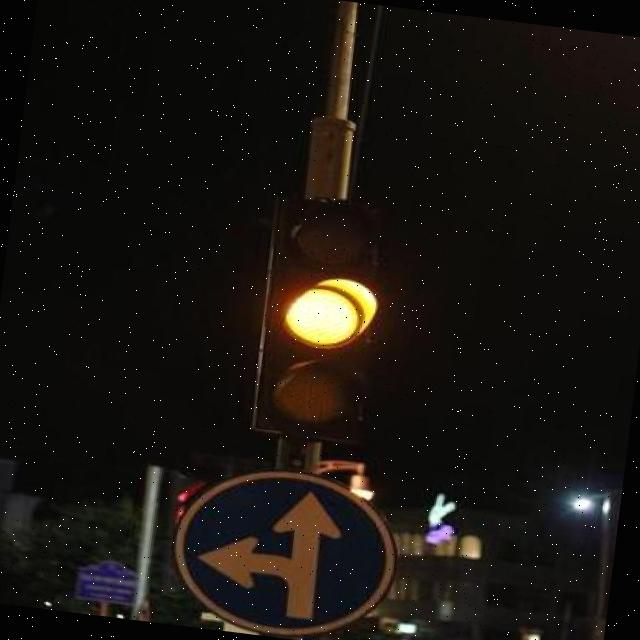yellow_light: (247, 198, 397, 448)
